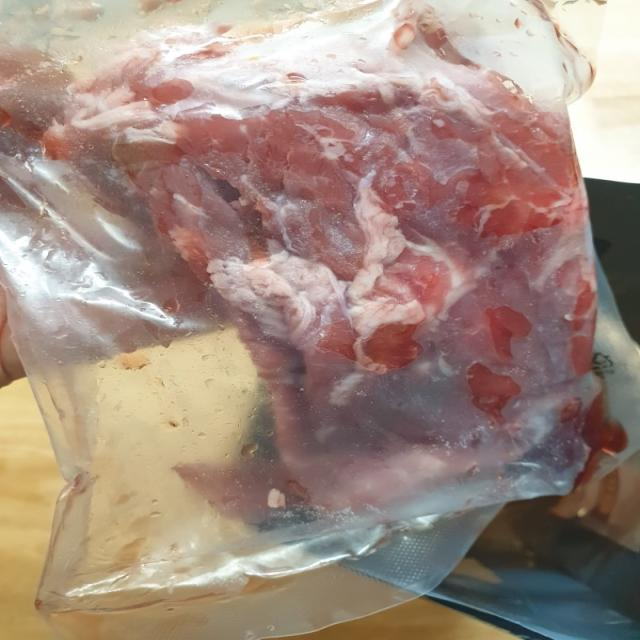pork: (26, 20, 640, 528)
